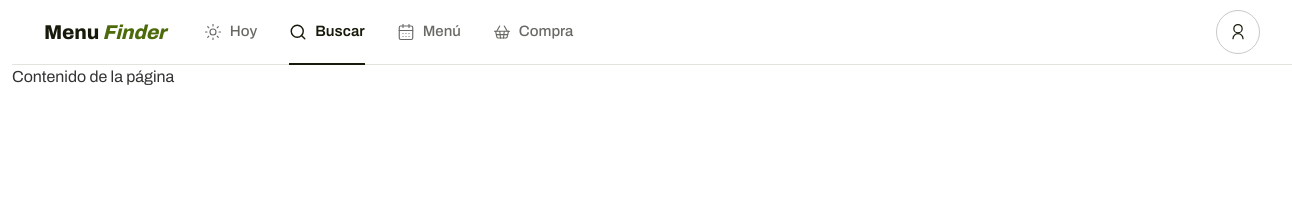
Test: AppShell › has the account button in the header, and the panel opens with the email it received
Click the button named "Cuenta": coordinates (1238, 32) 1216,10 -> 1260,54
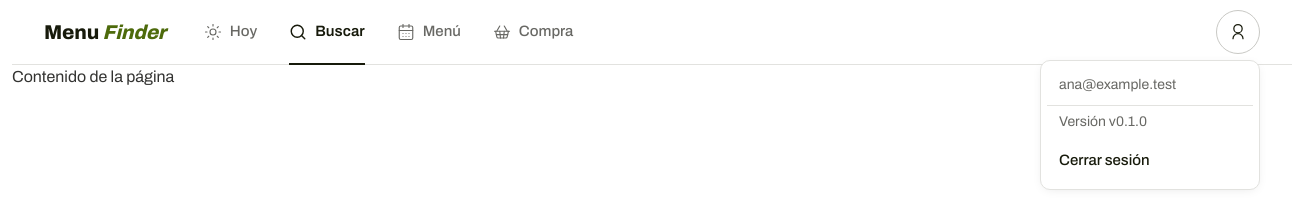
Expected: the text "ana@example.test" is shown, 1047,67 -> 1253,106
Expected: the button "Cerrar sesión" is shown, 1047,139 -> 1253,183
